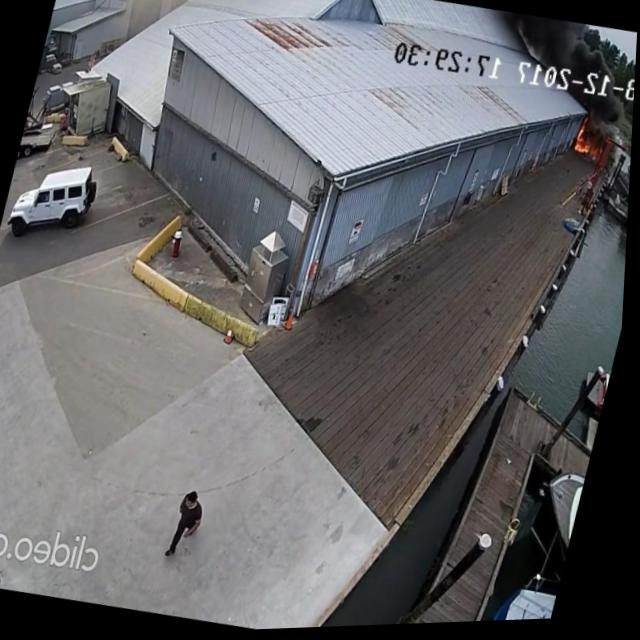fire: (572, 120, 602, 164)
